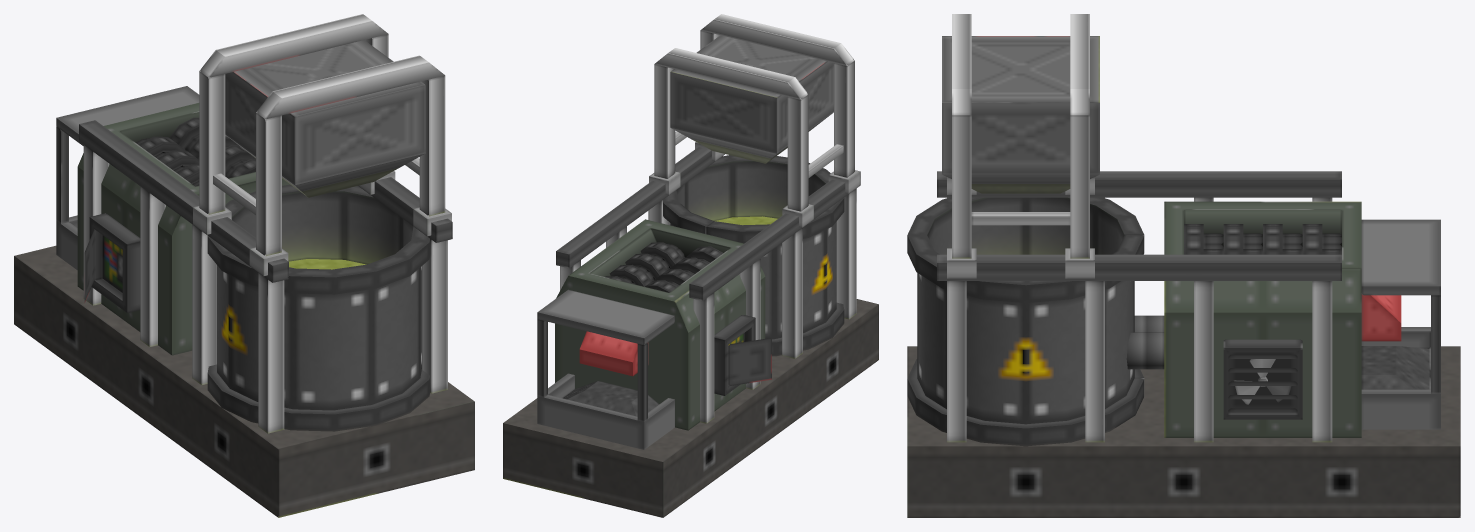
File: ore_slopper.obj
3 renders of one model, left to right at view 1: azimuth 30°, elevation 25°; view 2: azimuth 150°, elevation 25°; view 3: azimuth 270°, elevation 25°, orthographic. The views are drawn at different scales.
Parts seen in each view (by area): view 1: Base, Slider, BladesLeft, BladesRight, Bucket; view 2: Base, Slider, BladesLeft, BladesRight, Bucket; view 3: Base, Slider, BladesRight, Bucket, Fan.
Part boxes in pixels (<box>): Base: <box>14,86,474,517</box>; Slider: <box>193,14,451,275</box>; BladesLeft: <box>169,117,255,178</box>; BladesRight: <box>136,136,199,186</box>; Bucket: <box>248,152,398,197</box>; Base: <box>503,147,878,517</box>; Slider: <box>649,14,859,227</box>; BladesLeft: <box>605,242,685,286</box>; BladesRight: <box>645,246,723,292</box>; Bucket: <box>692,128,813,163</box>; Base: <box>907,171,1460,517</box>; Slider: <box>942,14,1099,278</box>; BladesRight: <box>1184,224,1341,254</box>; Bucket: <box>971,184,1070,193</box>; Fan: <box>1233,359,1291,404</box>.
Size of the model in its own units: 3.48 by 5.81 by 7.
